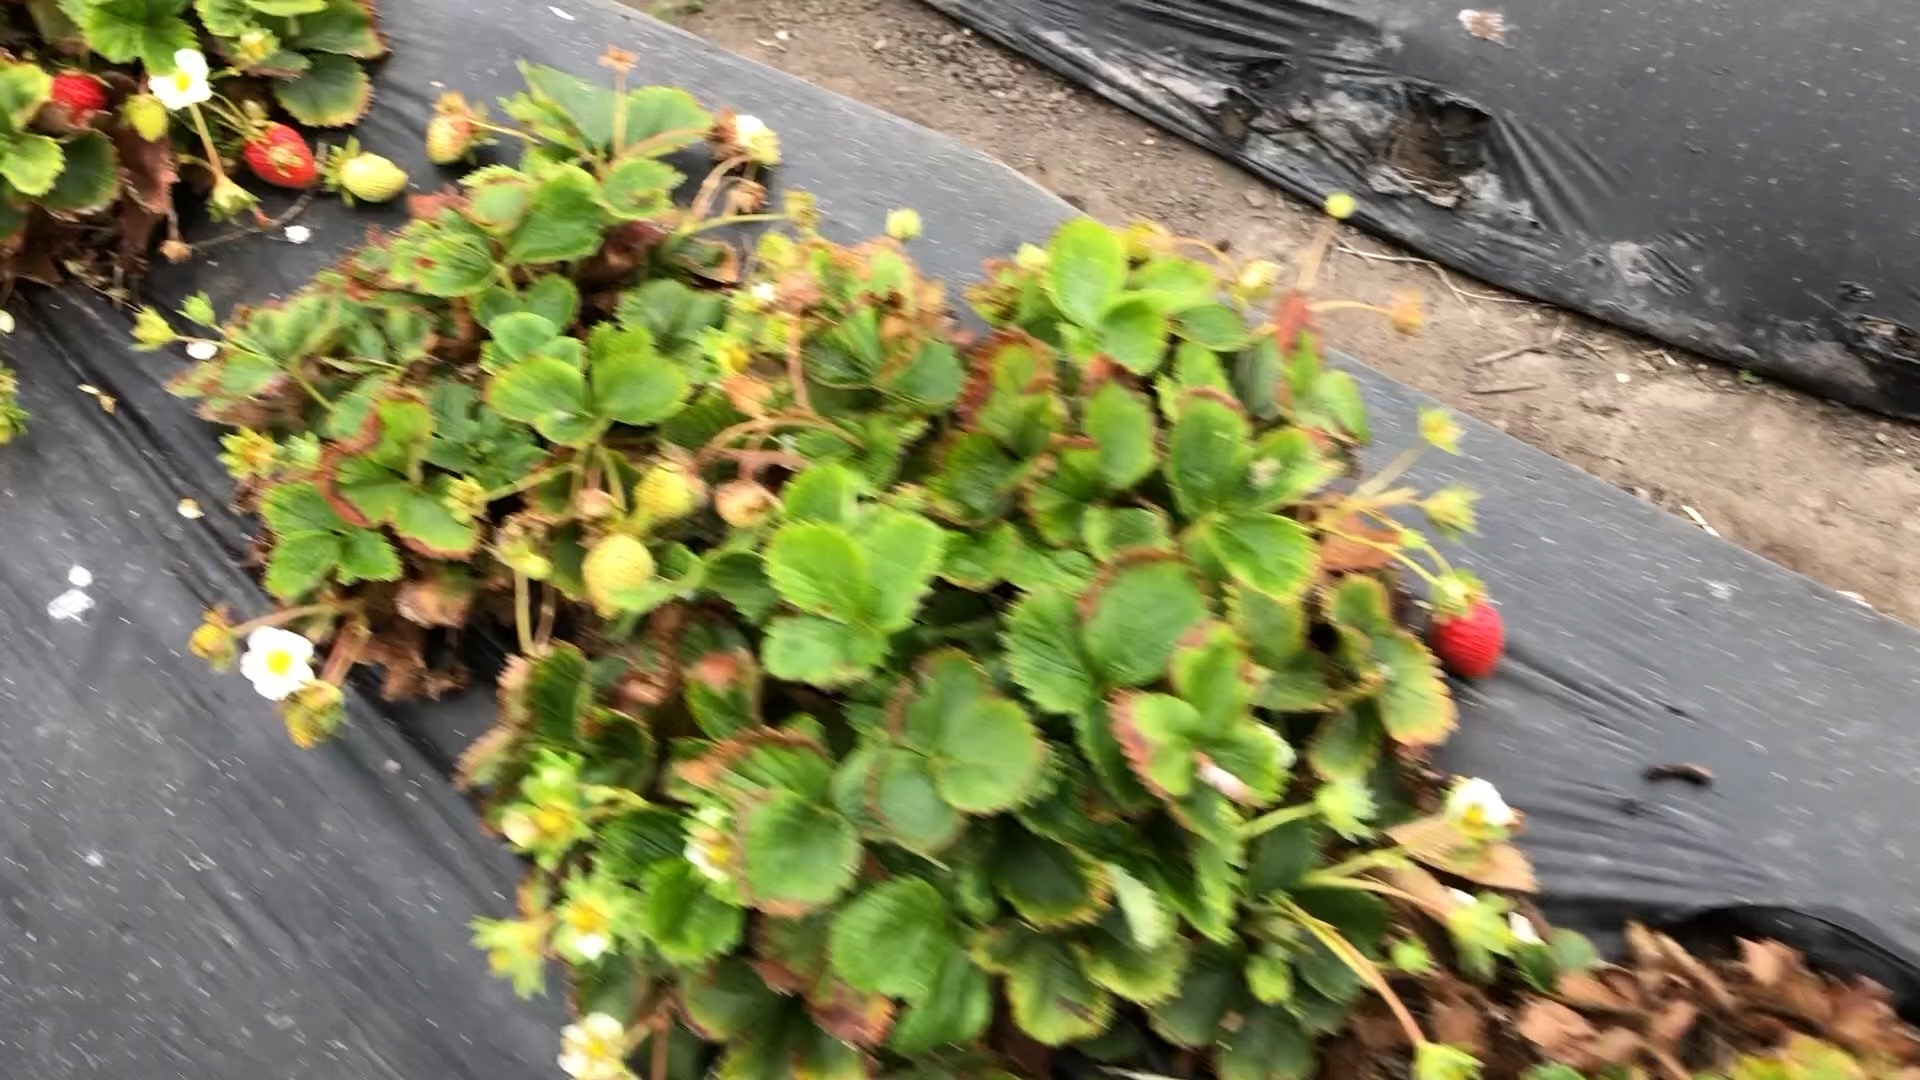ripe_strawberry: (1425, 588, 1506, 686), (239, 117, 324, 196), (47, 69, 111, 128)
unripe_strawberry: (578, 524, 659, 628), (632, 458, 708, 529), (280, 679, 345, 754), (327, 152, 413, 208), (422, 109, 479, 166), (123, 94, 174, 146)
